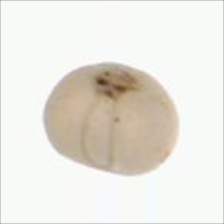L5: (80, 96, 117, 173), (89, 66, 147, 102)
L6: (41, 59, 182, 179)
